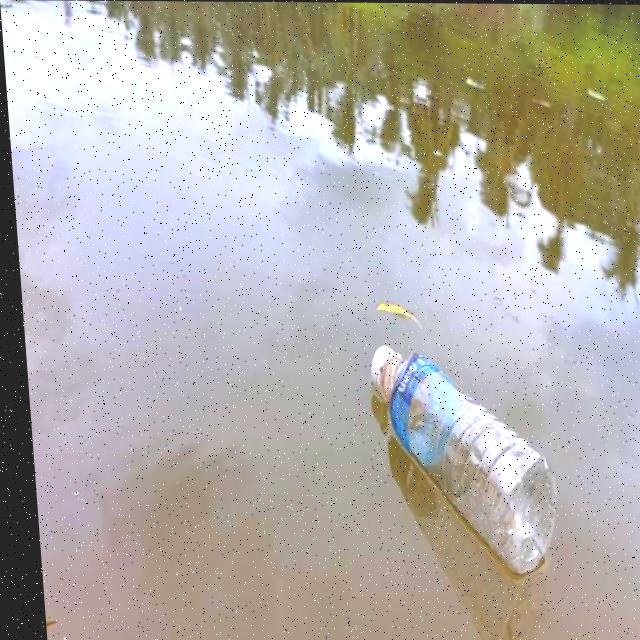waterbottle: (337, 327, 564, 558)
